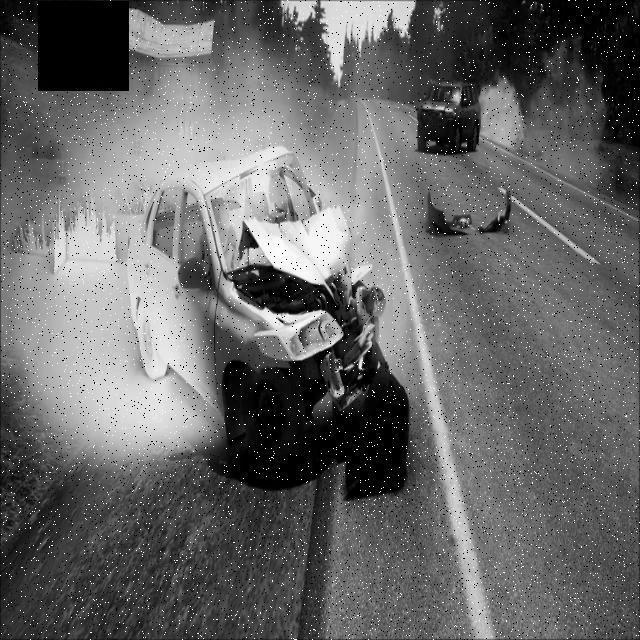accident: (121, 140, 390, 475)
vehicle: (416, 78, 482, 159)
